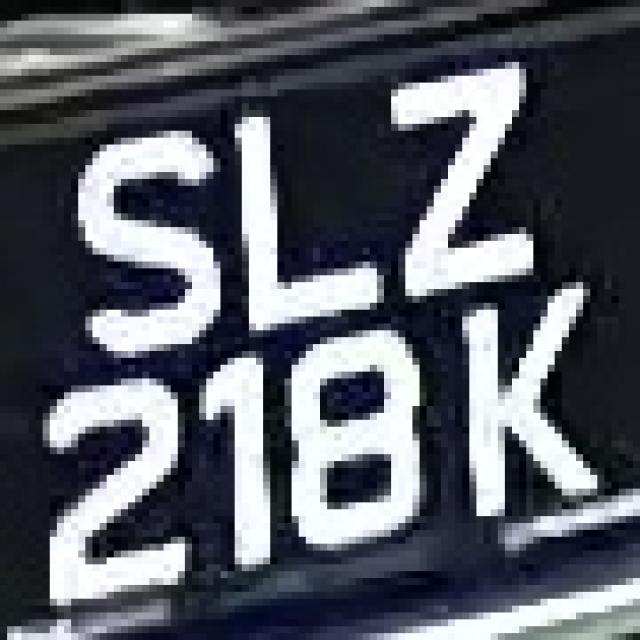1: (178, 323, 284, 592)
2: (21, 365, 178, 633)
8: (270, 310, 441, 557)
K: (441, 289, 633, 544)
L: (206, 83, 377, 351)
S: (64, 76, 228, 358)
Z: (348, 41, 554, 317)
